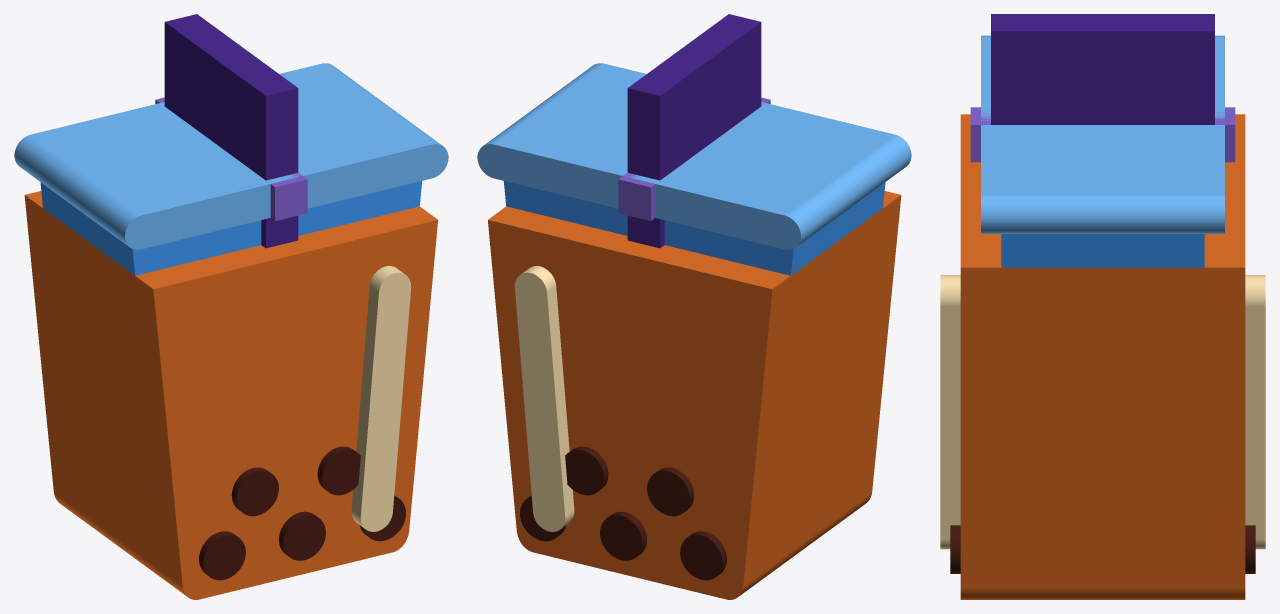
3 renders of one model, left to right at view 1: azimuth 30°, elevation 25°; view 2: azimuth 150°, elevation 25°; view 3: azimuth 270°, elevation 25°, orthographic. The views are drawn at different scales.
Parts seen in each view (by area): view 1: U+1F9CB_layer04_obj00, U+1F9CB_layer02_obj00, U+1F9CB_layer01_obj00, U+1F9CB_layer06_obj00, U+1F9CB_layer00_obj00, U+1F9CB_layer05_obj00, U+1F9CB_layer03_obj00; view 2: U+1F9CB_layer04_obj00, U+1F9CB_layer02_obj00, U+1F9CB_layer01_obj00, U+1F9CB_layer06_obj00, U+1F9CB_layer00_obj00, U+1F9CB_layer05_obj00, U+1F9CB_layer03_obj00; view 3: U+1F9CB_layer04_obj00, U+1F9CB_layer02_obj00, U+1F9CB_layer01_obj00, U+1F9CB_layer06_obj00, U+1F9CB_layer00_obj00, U+1F9CB_layer03_obj00, U+1F9CB_layer05_obj00.
Part boxes in pixels (x1=…): U+1F9CB_layer04_obj00: x1=24, y1=191, x2=437, y2=599; U+1F9CB_layer02_obj00: x1=14, y1=63, x2=448, y2=249; U+1F9CB_layer01_obj00: x1=164, y1=14, x2=298, y2=248; U+1F9CB_layer06_obj00: x1=351, y1=266, x2=411, y2=531; U+1F9CB_layer00_obj00: x1=40, y1=181, x2=422, y2=275; U+1F9CB_layer05_obj00: x1=199, y1=446, x2=405, y2=580; U+1F9CB_layer03_obj00: x1=155, y1=97, x2=307, y2=220; U+1F9CB_layer04_obj00: x1=488, y1=191, x2=901, y2=599; U+1F9CB_layer02_obj00: x1=477, y1=63, x2=911, y2=249; U+1F9CB_layer01_obj00: x1=627, y1=14, x2=761, y2=248; U+1F9CB_layer06_obj00: x1=514, y1=266, x2=574, y2=531; U+1F9CB_layer00_obj00: x1=503, y1=181, x2=885, y2=275; U+1F9CB_layer05_obj00: x1=520, y1=446, x2=726, y2=580; U+1F9CB_layer03_obj00: x1=618, y1=97, x2=770, y2=220; U+1F9CB_layer04_obj00: x1=960, y1=114, x2=1245, y2=599; U+1F9CB_layer02_obj00: x1=981, y1=35, x2=1224, y2=233; U+1F9CB_layer01_obj00: x1=991, y1=14, x2=1214, y2=124; U+1F9CB_layer06_obj00: x1=940, y1=275, x2=1265, y2=549; U+1F9CB_layer00_obj00: x1=1001, y1=234, x2=1204, y2=267; U+1F9CB_layer03_obj00: x1=970, y1=107, x2=1235, y2=162; U+1F9CB_layer05_obj00: x1=950, y1=525, x2=1255, y2=573.
Bounding box in the file's own units: 0.4058 × 0.5677 × 0.32.
